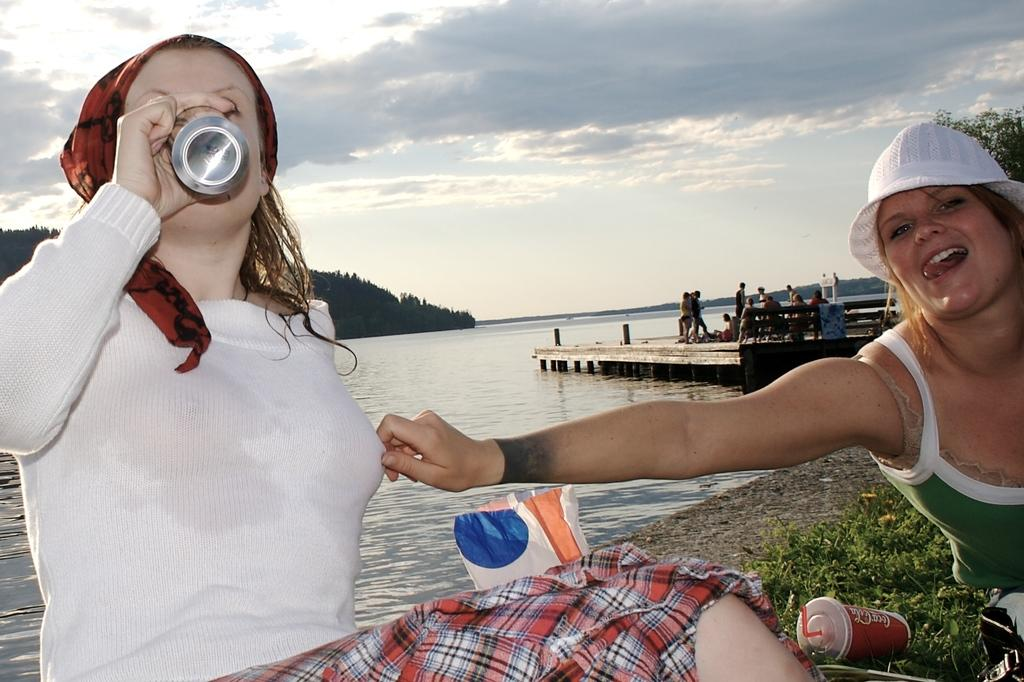Hat: (846, 120, 1023, 290)
